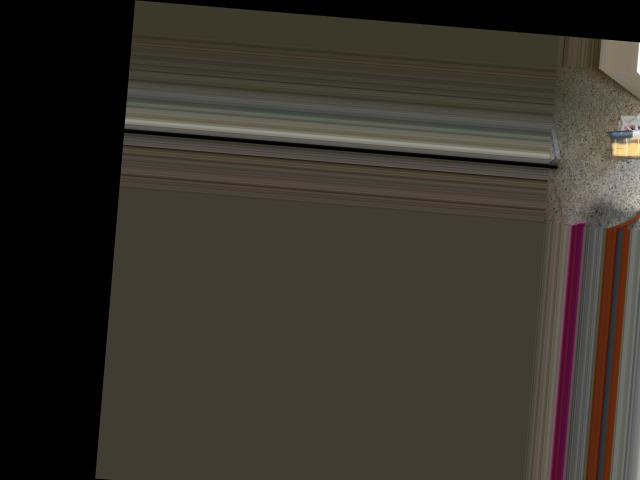cheese: (607, 116, 640, 166)
